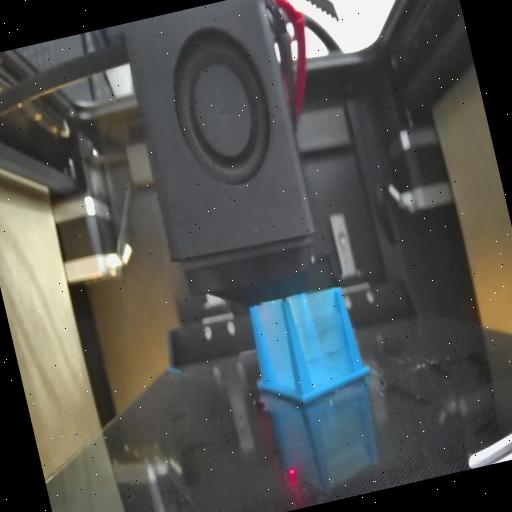stringing: (286, 284, 360, 392), (248, 302, 301, 406)
